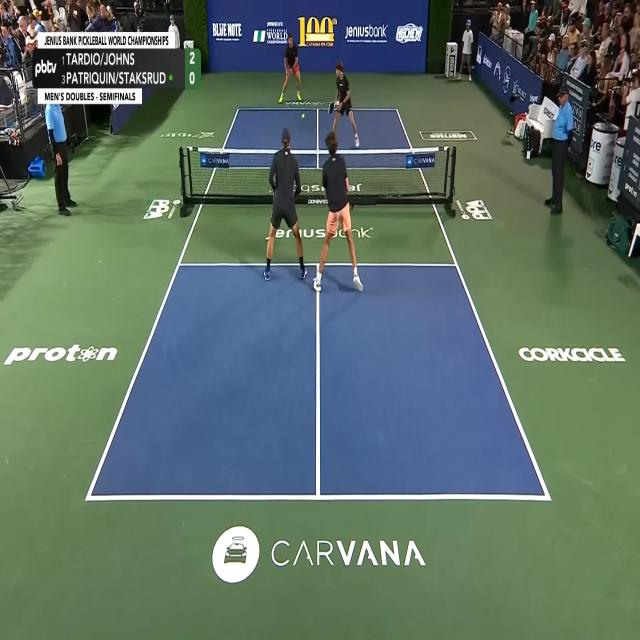ball: (301, 113, 305, 119)
